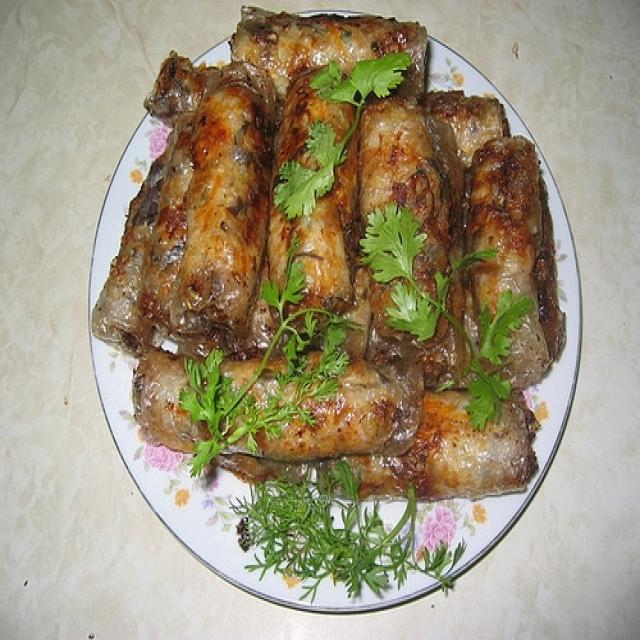炸货点心: (93, 17, 567, 560)
